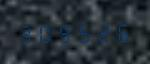five: (75, 20, 93, 43)
nine: (56, 20, 74, 44)
six: (113, 19, 131, 43)
three: (17, 20, 35, 44)
two: (94, 19, 112, 43)
zero: (36, 20, 54, 44)
